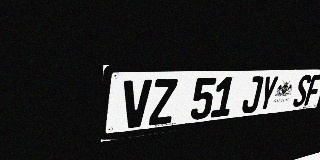1: (210, 77, 236, 118)
5: (190, 77, 217, 120)
F: (304, 74, 320, 106)
J: (241, 76, 264, 114)
S: (292, 75, 312, 107)
V: (121, 79, 152, 129)
Y: (257, 76, 279, 112)
Z: (149, 79, 178, 126)
